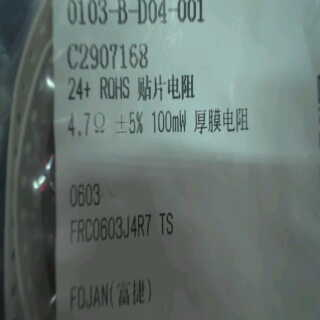4.7R: (64, 107, 110, 139)
